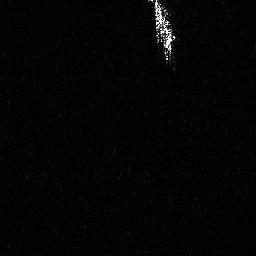ship: (143, 1, 179, 73)
